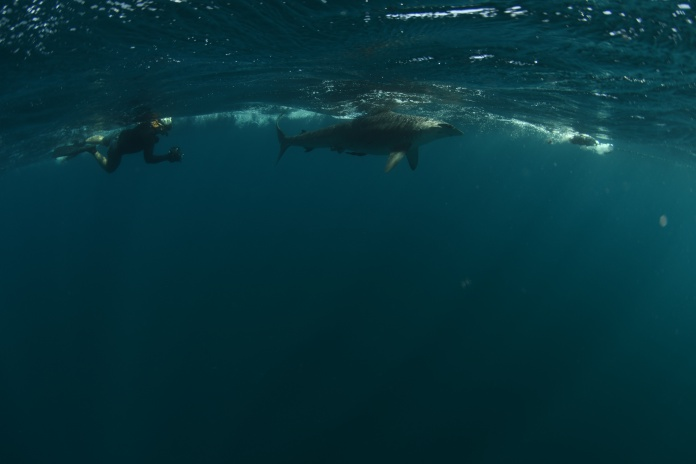Hammer: (260, 95, 457, 196)
